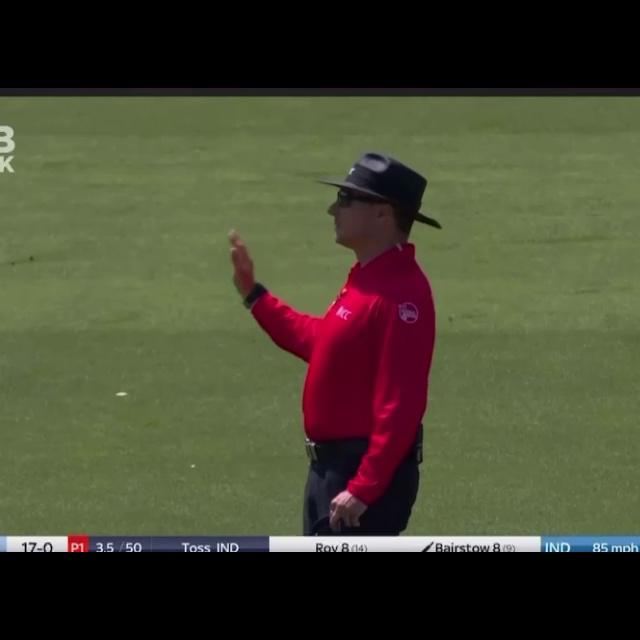umpire: (216, 138, 445, 535)
